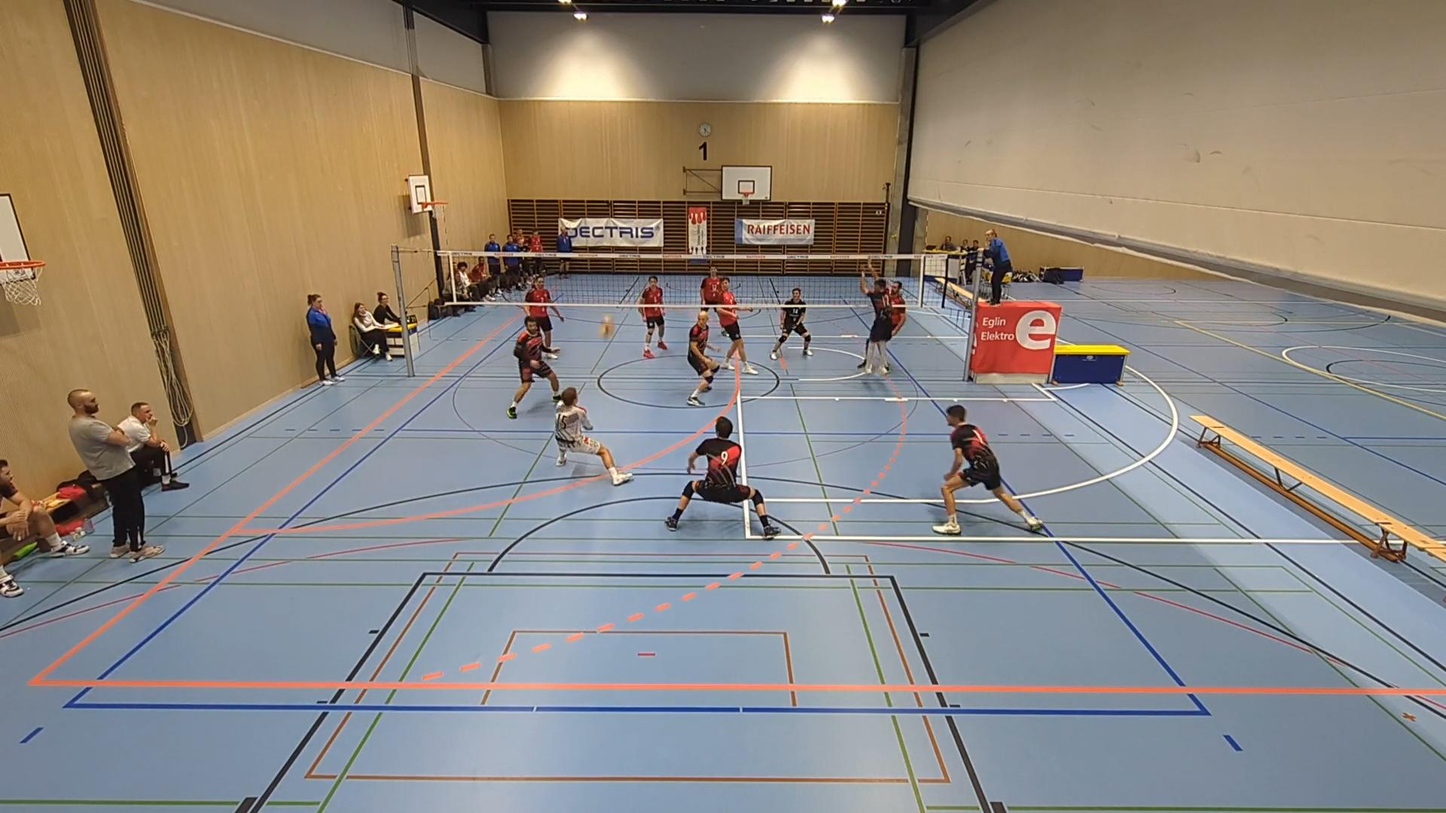difesa: (555, 383, 633, 488)
